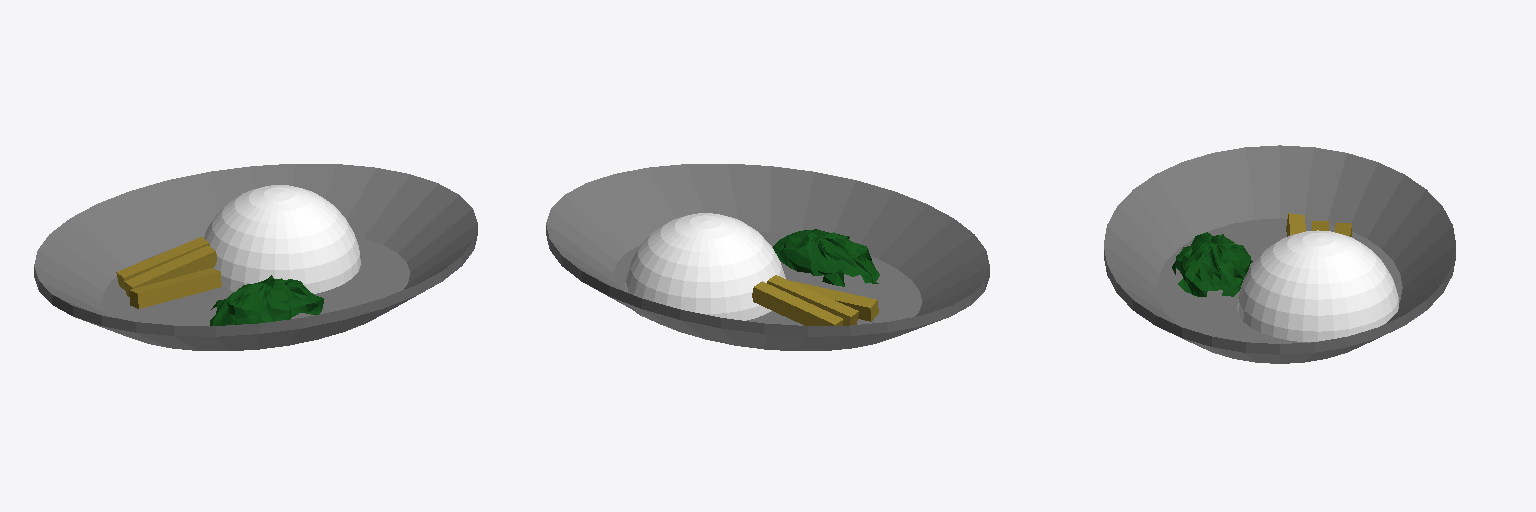
File: rice2_meat1_veg1.obj
3 views of the same model, side by side, from view 1: azimuth 30°, elevation 25°; view 2: azimuth 150°, elevation 25°; view 3: azimuth 270°, elevation 25° (orthographic).
Parts seen in each view (by area): view 1: Cylinder, Sphere, Sphere.001, Cube.002_Cube.003, Cube.001_Cube.002, Cube_Cube.001; view 2: Cylinder, Sphere, Sphere.001, Cube_Cube.001, Cube.001_Cube.002, Cube.002_Cube.003; view 3: Cylinder, Sphere, Sphere.001.
Boxes of the visible parts, box(x1,y1,x2,y2) form: Cylinder: box(34, 164, 477, 350); Sphere: box(204, 185, 360, 293); Sphere.001: box(210, 275, 323, 325); Cube.002_Cube.003: box(129, 268, 221, 308); Cube.001_Cube.002: box(124, 245, 216, 296); Cube_Cube.001: box(116, 237, 209, 290); Cylinder: box(546, 164, 989, 350); Sphere: box(625, 213, 785, 321); Sphere.001: box(773, 229, 879, 286); Cube_Cube.001: box(752, 281, 843, 325); Cube.001_Cube.002: box(767, 275, 858, 325); Cube.002_Cube.003: box(791, 281, 878, 321); Cylinder: box(1104, 145, 1455, 363); Sphere: box(1237, 230, 1398, 342); Sphere.001: box(1172, 232, 1252, 296).
Size of the model in its own units: 5.75 by 1.05 by 4.31.